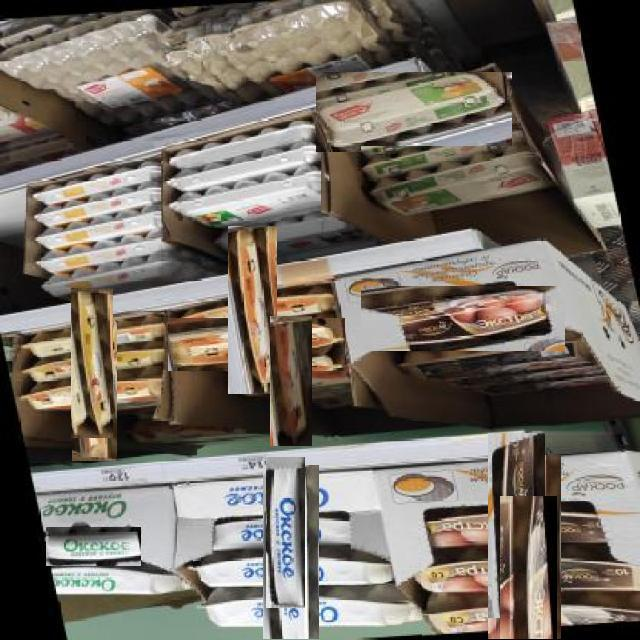Egg: (315, 71, 512, 152), (361, 146, 556, 218), (488, 454, 561, 640), (361, 285, 565, 351), (194, 582, 422, 639), (488, 433, 545, 618), (264, 464, 319, 640), (168, 317, 345, 371), (500, 496, 557, 640), (229, 226, 277, 394), (52, 554, 193, 601), (72, 320, 117, 461), (72, 287, 113, 438), (266, 457, 305, 608), (270, 315, 312, 446), (45, 526, 141, 566)
